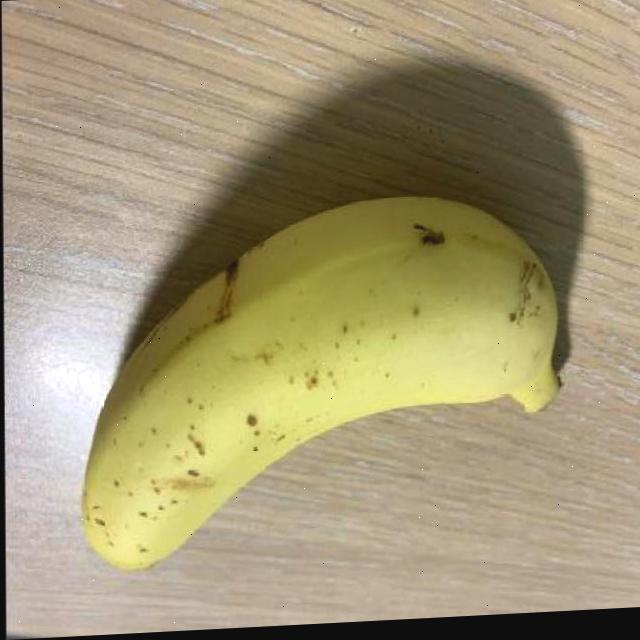banana: (72, 173, 571, 580)
